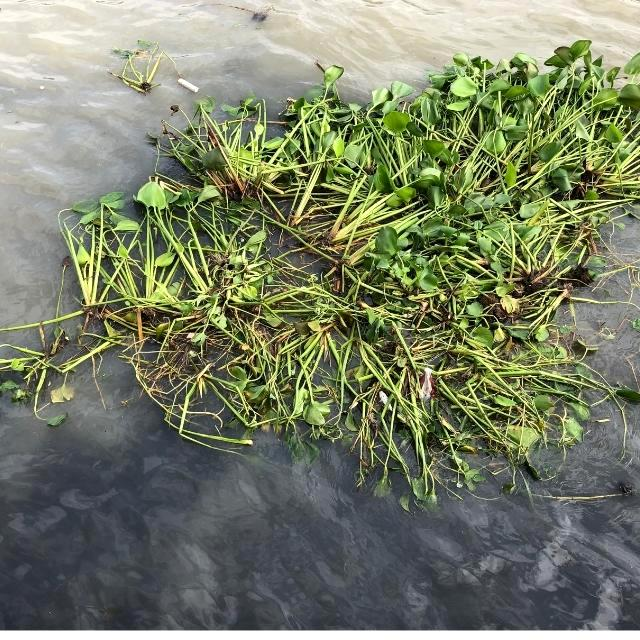water-hyacinth: (1, 35, 640, 505)
